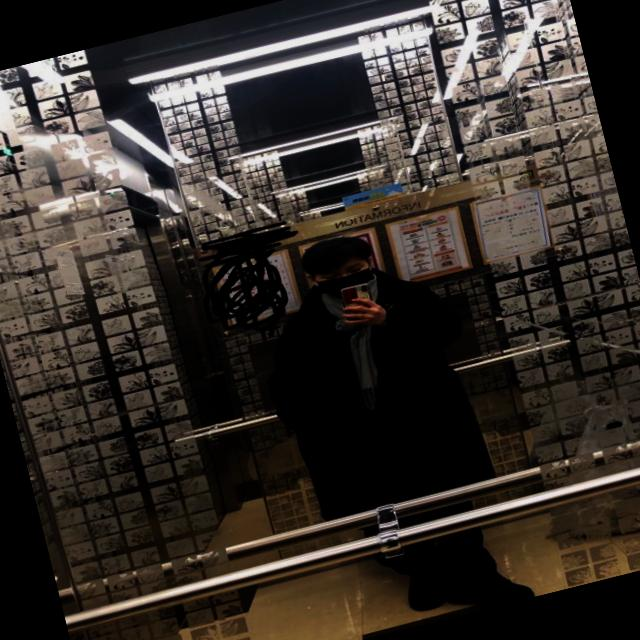coat: (247, 258, 498, 526)
